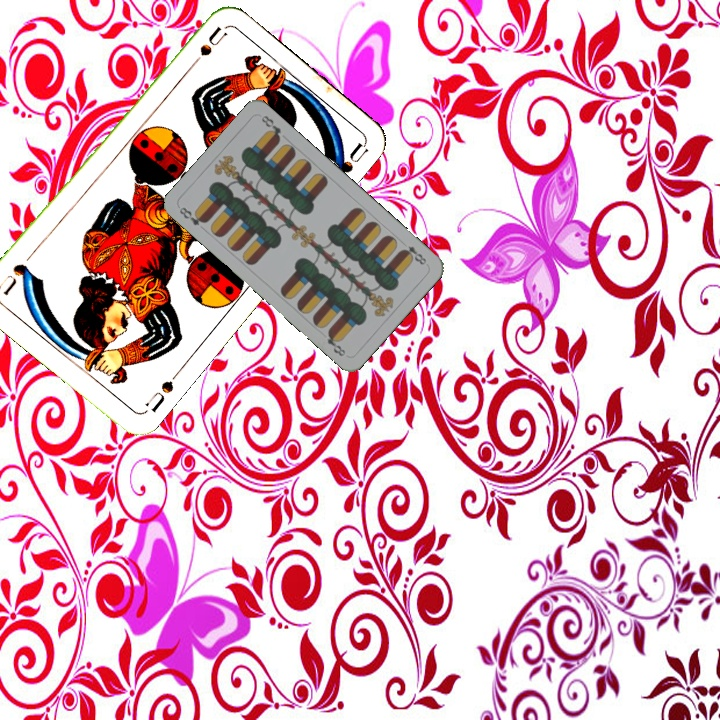E8: (175, 203, 210, 228), (397, 241, 429, 267)
SU: (182, 23, 228, 75), (141, 376, 177, 415)
